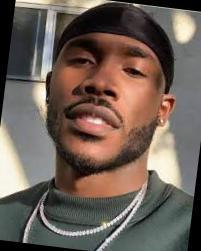Sober: (57, 38, 156, 164)
